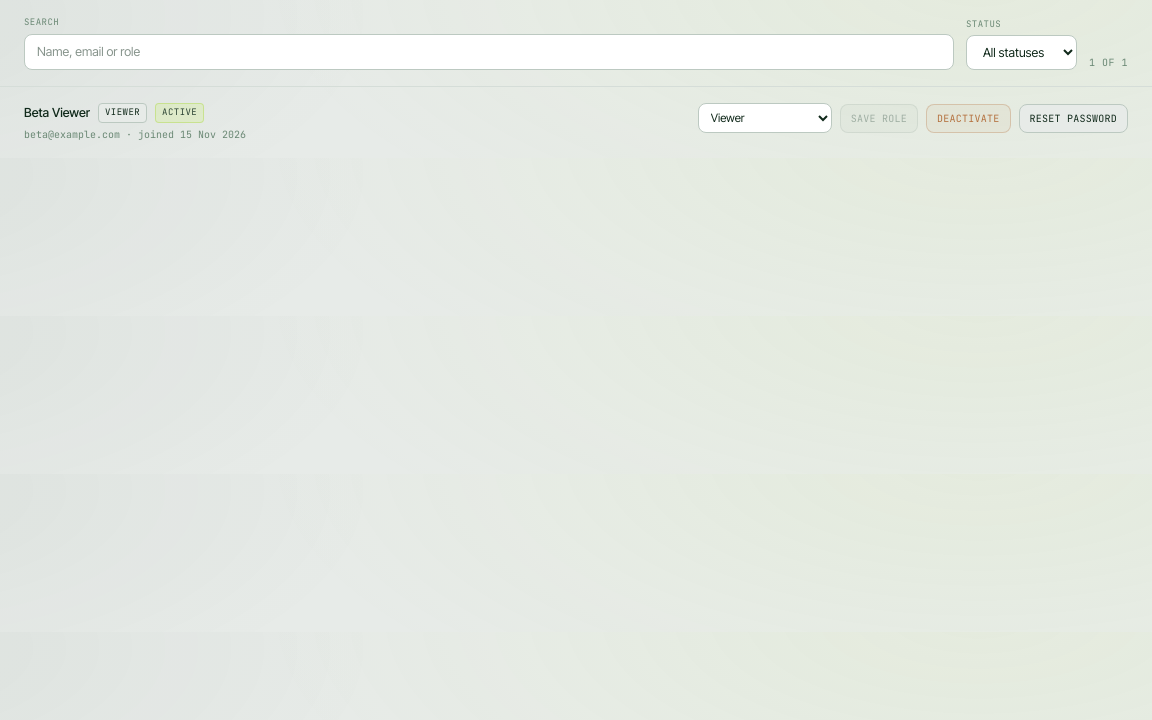
member roster › deactivates a member and reports the revoked sessions
Click the button "Deactivate" at [968, 118], box [926,104,1010,133]
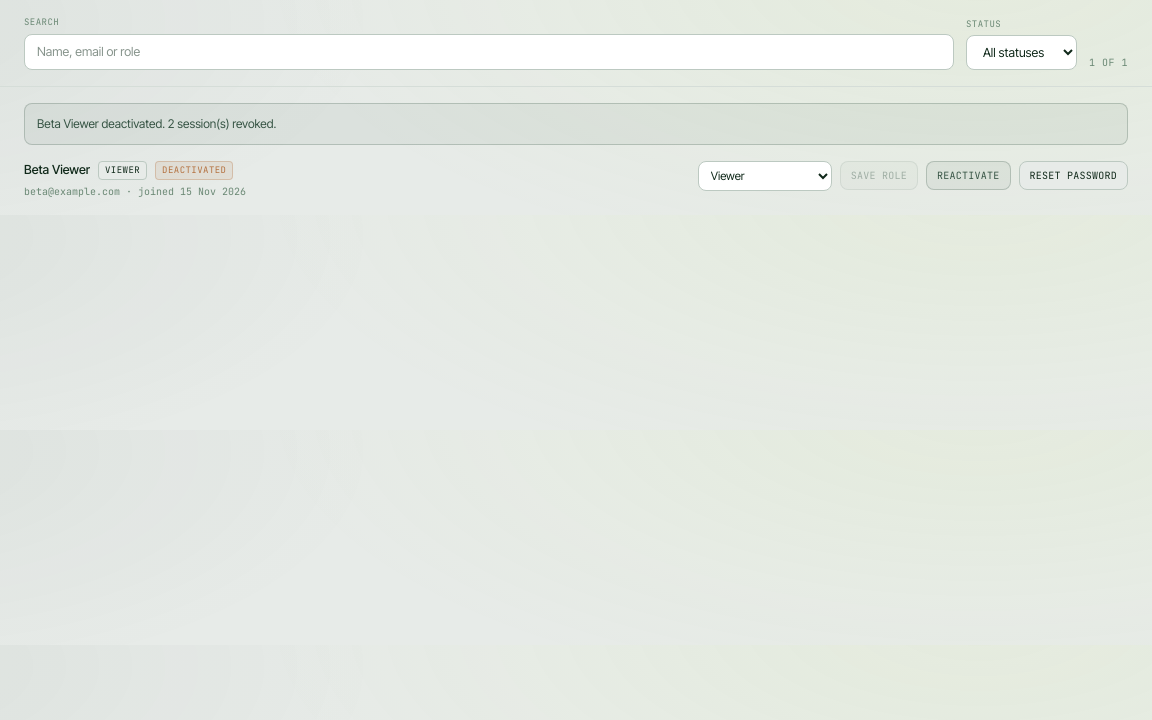
Check: the message "Beta Viewer deactivated. 2 session(s) revoked." is shown, box [24,103,1128,145]
Check: the text "Deactivated" is shown, box [155,161,234,180]
Check: the message shows "2 session(s) revoked", box [37,116,276,131]
